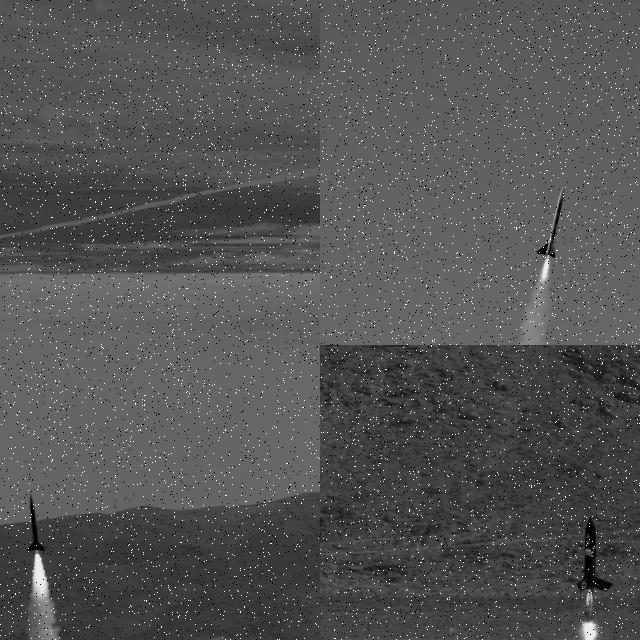Rocket: (576, 516, 614, 592), (536, 186, 565, 259), (26, 492, 46, 552)
